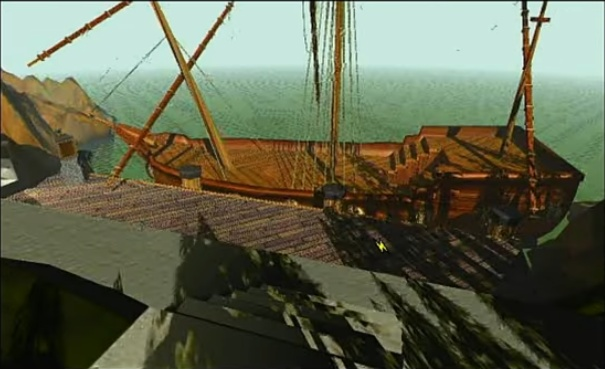Keep: (371, 237, 390, 254)
